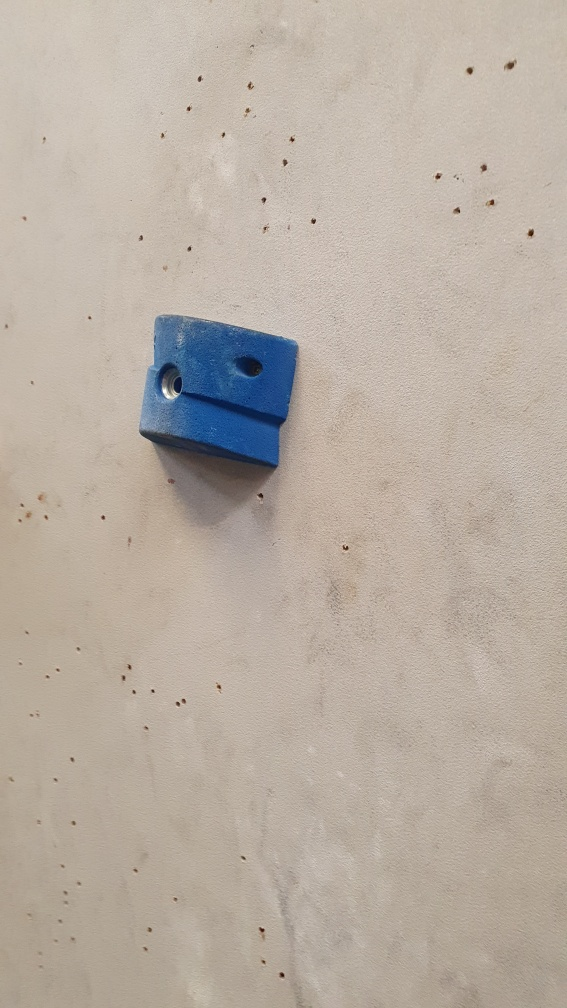Pinch: (136, 310, 303, 472)
